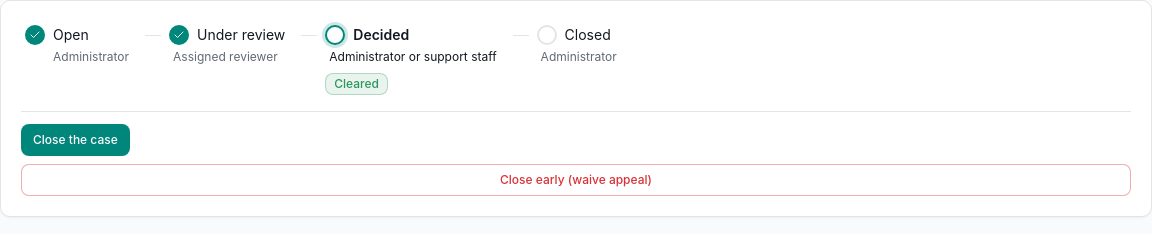
Scenario: JourneyRail stage control › shows the decision result on the Decided step and explains a future step on click
Click the button "Closed Administrator" at (565, 45), box [509,21,621,69]
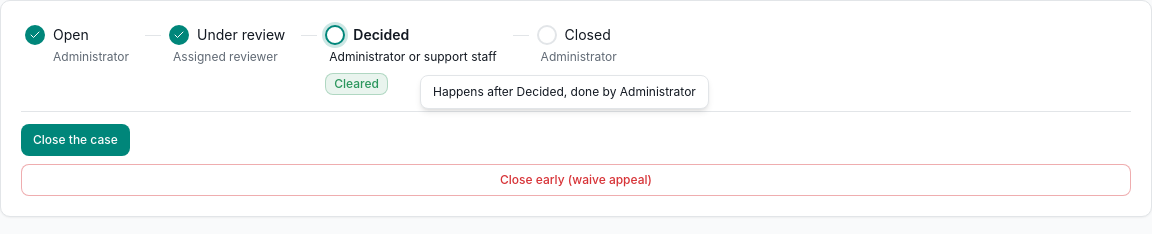
Expected: the tooltip reads "Happens after Decided, done by Administrator", [433,84,696,99]
